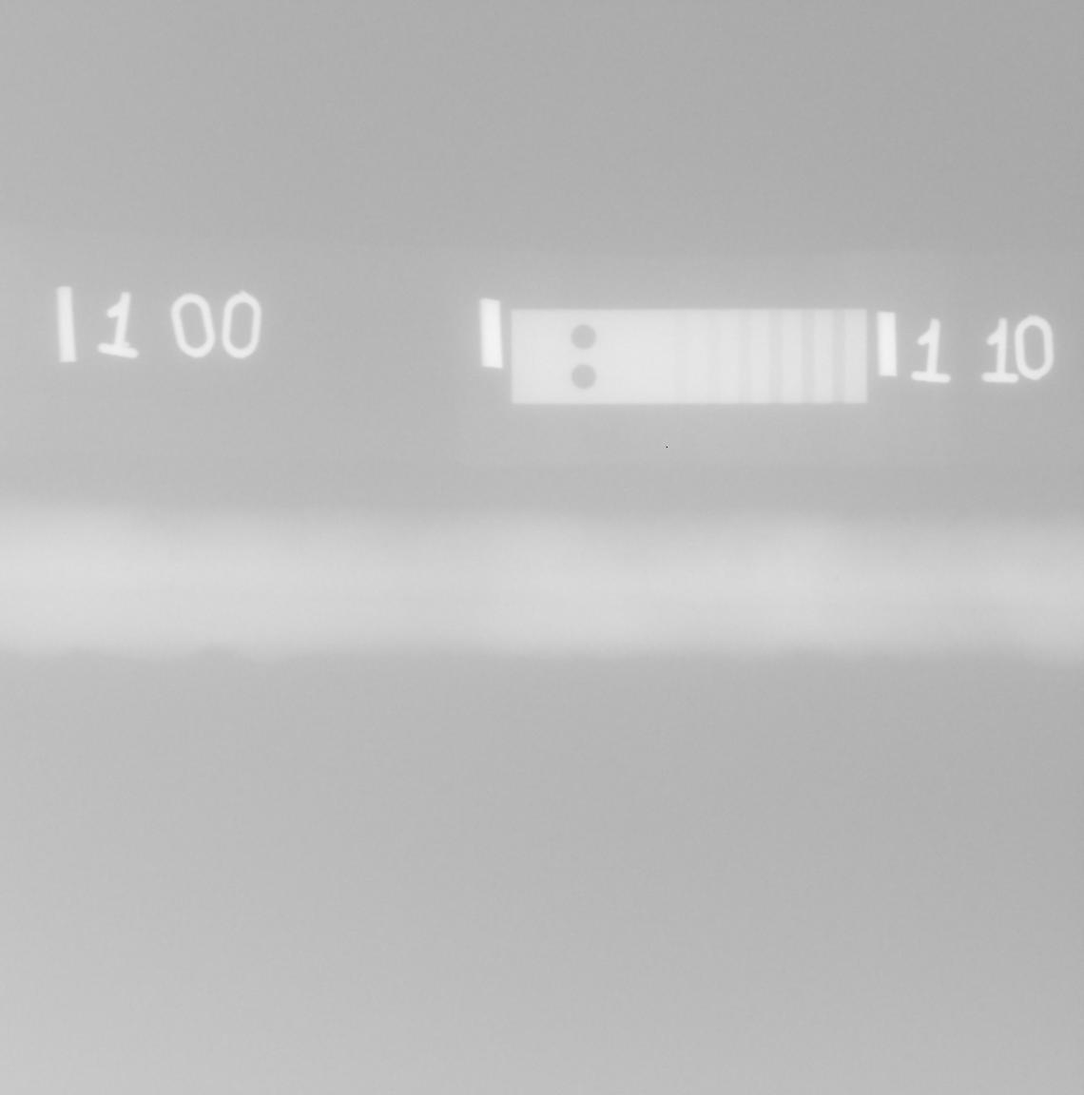Reference Standard 2: (510, 308, 867, 404)
